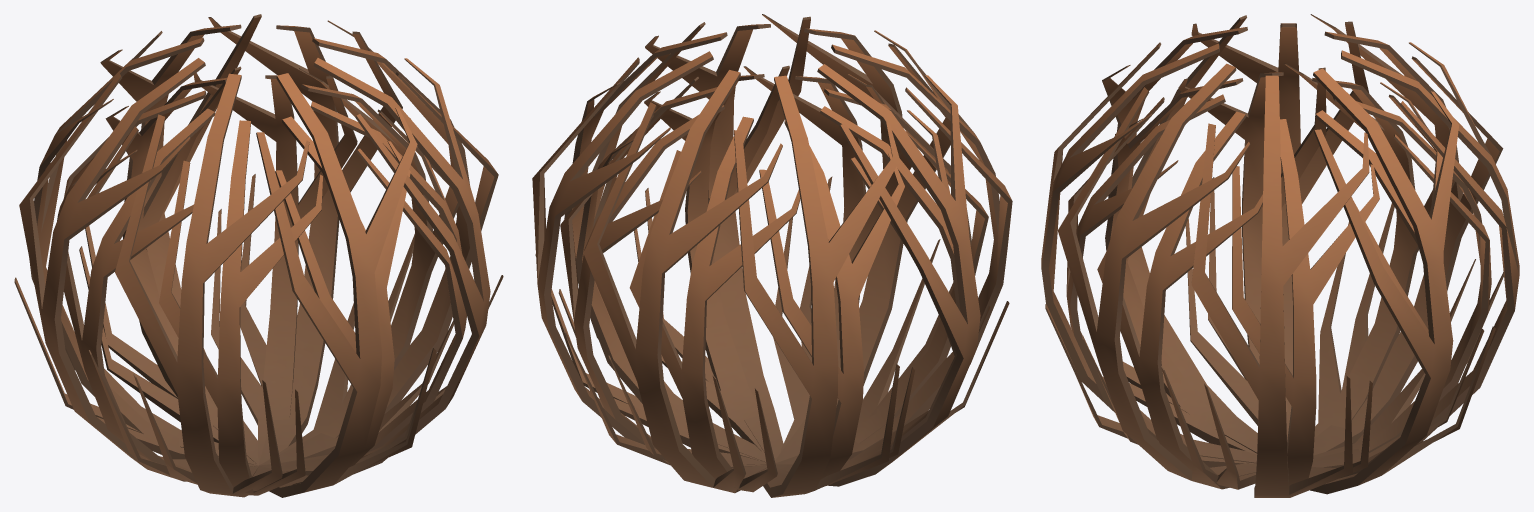
File: Array.fbx
The picture shows the model from 3 angles, left to right: view 1: azimuth 30°, elevation 25°; view 2: azimuth 150°, elevation 25°; view 3: azimuth 270°, elevation 25°; orthographic projection.
Visible parts, largest first — view 1: Array; view 2: Array; view 3: Array.
Part boxes in pixels (x1,y1,x2,y2): Array: [14, 14, 503, 497]; Array: [532, 14, 1012, 497]; Array: [1041, 14, 1519, 497].
Size of the model in its own units: 15.97 by 15.72 by 15.97.
